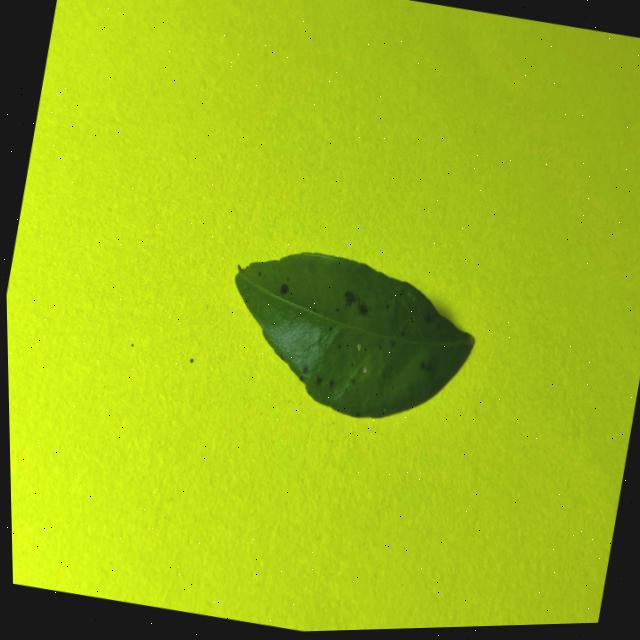sooty_mold: (234, 253, 473, 417)
